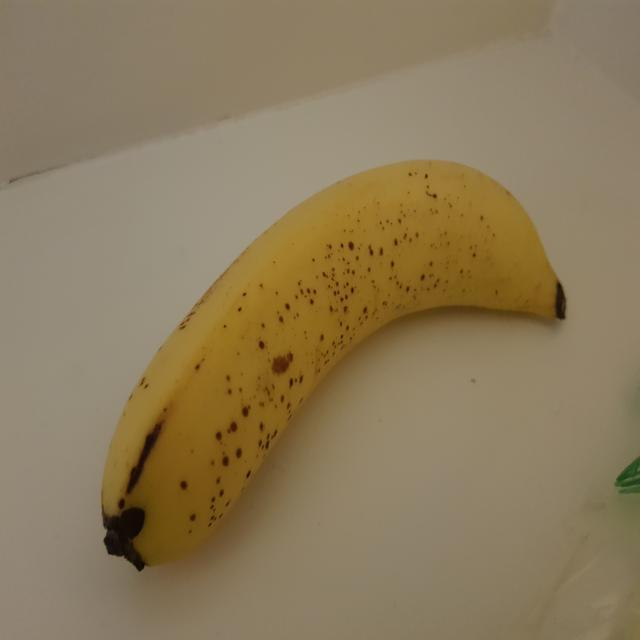Banana: (90, 153, 569, 574)
